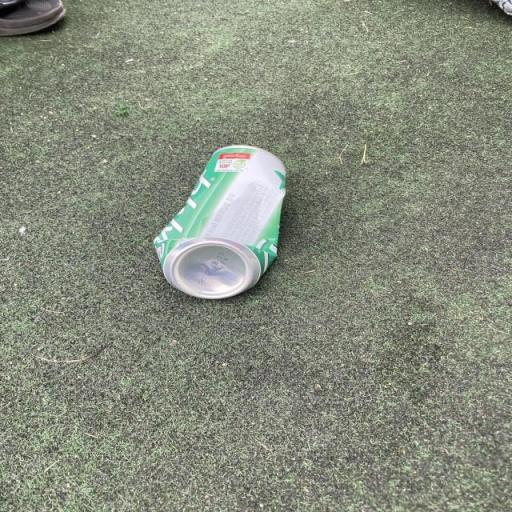metal: (122, 130, 311, 316)
